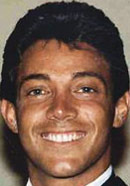No Mask: (19, 105, 110, 175)
